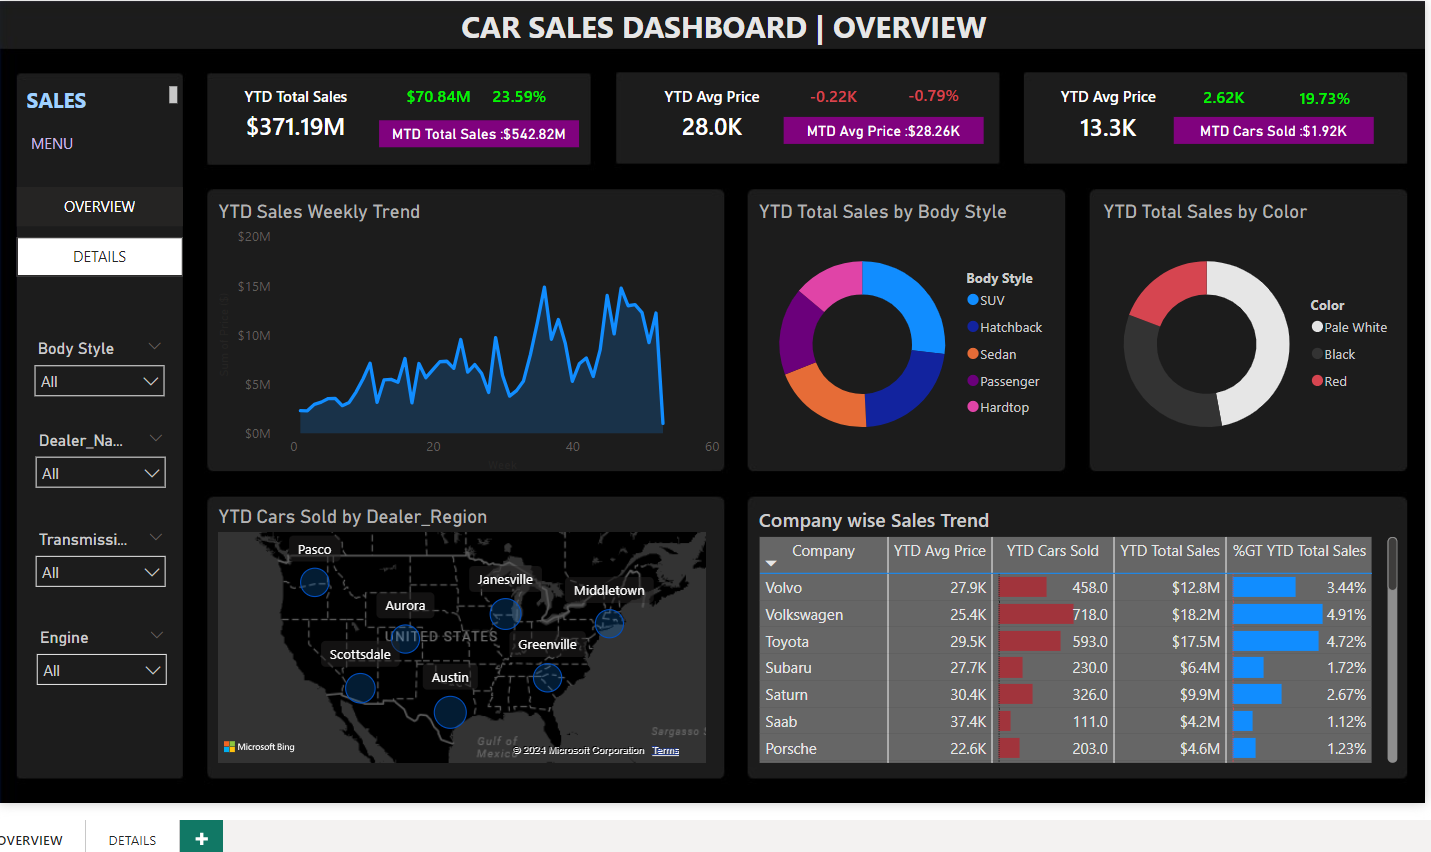

Layout of this report page (visuals, bound fields, positions):
{"tool":"powerbi","page":{"name":"OVERVIEW","canvas":[1280,720],"ordinal":0},"visuals":[{"type":"card","title":"YTD Total Sales","fields":{"Values":["car_data.YTD Total Sales"]},"box":[191.8,75.5,149.1,59.6],"z":0},{"type":"card","fields":{"Values":["car_data.Sales Difference"]},"box":[358.8,70.6,72.6,34.8],"z":1000},{"type":"card","fields":{"Values":["car_data.YoY Sales Growth"]},"box":[431.3,70.6,72.6,34.8],"z":2000},{"type":"card","fields":{"Values":["car_data.MTD KPI"]},"box":[340.9,107.3,179.9,24.8],"z":3000},{"type":"card","title":"YTD Avg Price","fields":{"Values":["car_data.YTD Avg Price"]},"box":[565.5,75.5,149.1,59.6],"z":4000},{"type":"card","fields":{"Values":["car_data.Avg Price Diff"]},"box":[703.6,70.6,90.4,34.8],"z":5000},{"type":"card","fields":{"Values":["car_data.MTD avg price KPI"]},"box":[703.6,104.4,179.9,24.8],"z":6000},{"type":"card","fields":{"Values":["car_data.YOY avg price growth"]},"box":[793.8,69.6,90.4,34.3],"z":7000},{"type":"card","title":"YTD Avg Price","fields":{"Values":["car_data.YTD Cars Sold"]},"box":[920.7,75.9,149.7,59.9],"z":8000},{"type":"card","fields":{"Values":["car_data.Cars Sold diff"]},"box":[1054.3,70.6,90.9,35.3],"z":9000},{"type":"card","fields":{"Values":["car_data.YOY cars sold growth"]},"box":[1144.9,71.6,90.4,35.8],"z":10000},{"type":"card","fields":{"Values":["car_data.mtd car sold KPI"]},"box":[1054.5,104.4,179.9,24.8],"z":11000},{"type":"areaChart","title":"YTD Sales Weekly Trend","fields":{"Category":["Calender Table.Week"],"Y":["Sum(car_data.Price ($))"]},"box":[192,179,463,248],"z":12000},{"type":"donutChart","fields":{"Category":["car_data.Body Style"],"Y":["car_data.YTD Total Sales"]},"box":[677,179,274,240],"z":13000},{"type":"donutChart","fields":{"Y":["car_data.YTD Total Sales"],"Category":["car_data.Color"]},"box":[986,179,274,240],"z":14000},{"type":"map","fields":{"Category":["car_data.Dealer_Region"],"Size":["car_data.YTD Cars Sold"]},"box":[192,453,448,236],"z":15000},{"type":"tableEx","title":"Company wise Sales Trend","fields":{"Values":["car_data.Company","car_data.YTD Avg Price","car_data.YTD Cars Sold","car_data.YTD Total Sales1","car_data.YTD Total Sales"]},"box":[677,453,583,236],"z":16000},{"type":"slicer","fields":{"Values":["car_data.Body Style"]},"box":[22,299,137,61],"z":17000},{"type":"slicer","fields":{"Values":["car_data.Dealer_Name"]},"box":[23,381,137,61],"z":18000},{"type":"slicer","fields":{"Values":["car_data.Transmission"]},"box":[23,470,137,61],"z":19000},{"type":"slicer","fields":{"Values":["car_data.Engine"]},"box":[24,558,137,61],"z":20000},{"type":"textbox","box":[520,0,534,50],"z":21000},{"type":"textbox","box":[20,72,145,37],"z":22000},{"type":"textbox","box":[24,114,67,29],"z":23000},{"type":"pageNavigator","box":[16,167,149,80],"z":24000}]}

Visuals, with their boxes on the page's 1280x720 design canvas (x1, y1, x2, y2). These are canvas units, not pixel positions in the 1431x852 screenshot, which may show the page scaled, cropped or inside an application window:
"YTD Total Sales" card: rect(192, 76, 341, 135)
card - car_data.Sales Difference: rect(359, 71, 431, 105)
card - car_data.YoY Sales Growth: rect(431, 71, 504, 105)
card - car_data.MTD KPI: rect(341, 107, 521, 132)
"YTD Avg Price" card: rect(566, 76, 715, 135)
card - car_data.Avg Price Diff: rect(704, 71, 794, 105)
card - car_data.MTD avg price KPI: rect(704, 104, 884, 129)
card - car_data.YOY avg price growth: rect(794, 70, 884, 104)
"YTD Avg Price" card: rect(921, 76, 1070, 136)
card - car_data.Cars Sold diff: rect(1054, 71, 1145, 106)
card - car_data.YOY cars sold growth: rect(1145, 72, 1235, 107)
card - car_data.mtd car sold KPI: rect(1054, 104, 1234, 129)
"YTD Sales Weekly Trend" areaChart: rect(192, 179, 655, 427)
donutChart - car_data.Body Style x car_data.YTD Total Sales: rect(677, 179, 951, 419)
donutChart - car_data.YTD Total Sales x car_data.Color: rect(986, 179, 1260, 419)
map - car_data.Dealer_Region x car_data.YTD Cars Sold: rect(192, 453, 640, 689)
"Company wise Sales Trend" tableEx: rect(677, 453, 1260, 689)
slicer - car_data.Body Style: rect(22, 299, 159, 360)
slicer - car_data.Dealer_Name: rect(23, 381, 160, 442)
slicer - car_data.Transmission: rect(23, 470, 160, 531)
slicer - car_data.Engine: rect(24, 558, 161, 619)
textbox: rect(520, 0, 1054, 50)
textbox: rect(20, 72, 165, 109)
textbox: rect(24, 114, 91, 143)
pageNavigator: rect(16, 167, 165, 247)
